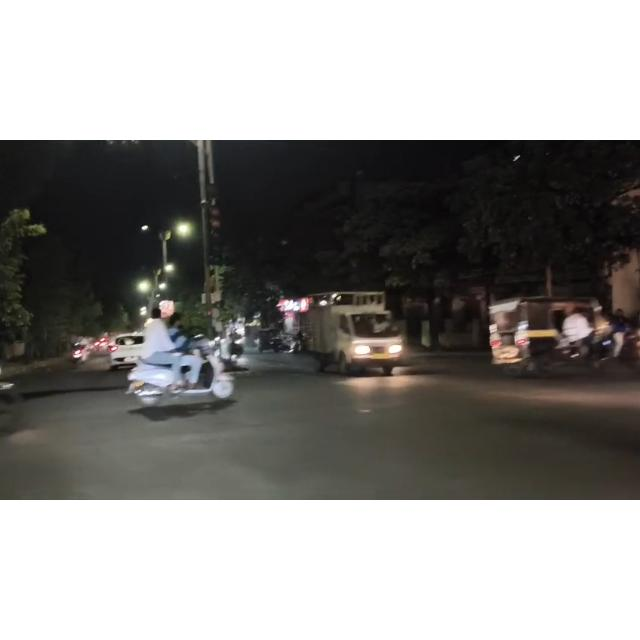auto: (484, 300, 620, 378), (252, 329, 290, 355)
car: (105, 335, 156, 368)
